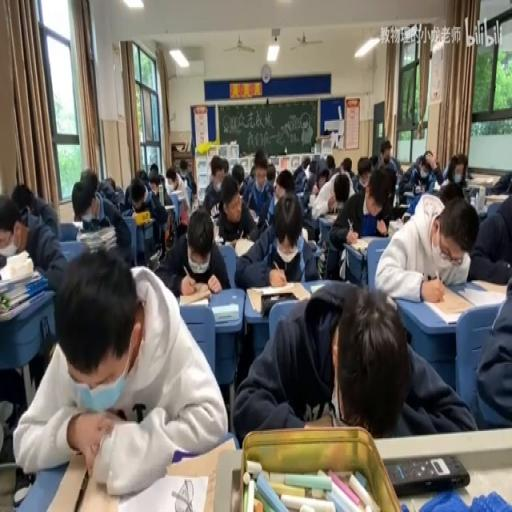calculator: (386, 452, 470, 496), (117, 471, 207, 509), (421, 284, 474, 323), (246, 281, 308, 313), (178, 287, 210, 306), (468, 278, 506, 294), (212, 302, 238, 322), (351, 236, 378, 253), (233, 236, 254, 256), (132, 209, 150, 225), (388, 218, 404, 234), (468, 175, 495, 183), (485, 193, 507, 202), (212, 222, 221, 242), (320, 213, 338, 222), (310, 282, 326, 292), (222, 238, 238, 248), (70, 219, 84, 230), (248, 208, 258, 222), (305, 239, 317, 250), (430, 181, 441, 192), (295, 189, 306, 199), (403, 190, 415, 198), (309, 189, 317, 201), (301, 226, 307, 240), (210, 212, 220, 220), (164, 204, 174, 210)
paper: (14, 243, 228, 492), (234, 280, 471, 441), (376, 191, 474, 300), (232, 189, 318, 286), (329, 166, 393, 274), (155, 204, 228, 298), (1, 188, 67, 290), (68, 170, 135, 268), (473, 268, 512, 430), (467, 180, 512, 284), (396, 148, 442, 203), (202, 154, 228, 214), (124, 172, 158, 215), (374, 139, 400, 185), (10, 182, 34, 218), (176, 156, 195, 196), (274, 168, 295, 202), (438, 182, 464, 205), (489, 169, 512, 193), (332, 173, 350, 202), (230, 161, 244, 192), (450, 158, 466, 183), (310, 155, 324, 181), (79, 166, 97, 186), (164, 212, 174, 246), (294, 168, 307, 193), (356, 155, 370, 176), (166, 168, 178, 190), (102, 175, 116, 192), (394, 159, 404, 178), (299, 155, 310, 172), (265, 164, 274, 184), (148, 161, 158, 179), (221, 159, 230, 178), (341, 155, 351, 172), (135, 169, 147, 182), (325, 154, 334, 170), (424, 150, 434, 164), (369, 154, 378, 169), (435, 156, 441, 170), (250, 164, 255, 176)
person: (393, 202, 408, 219)
